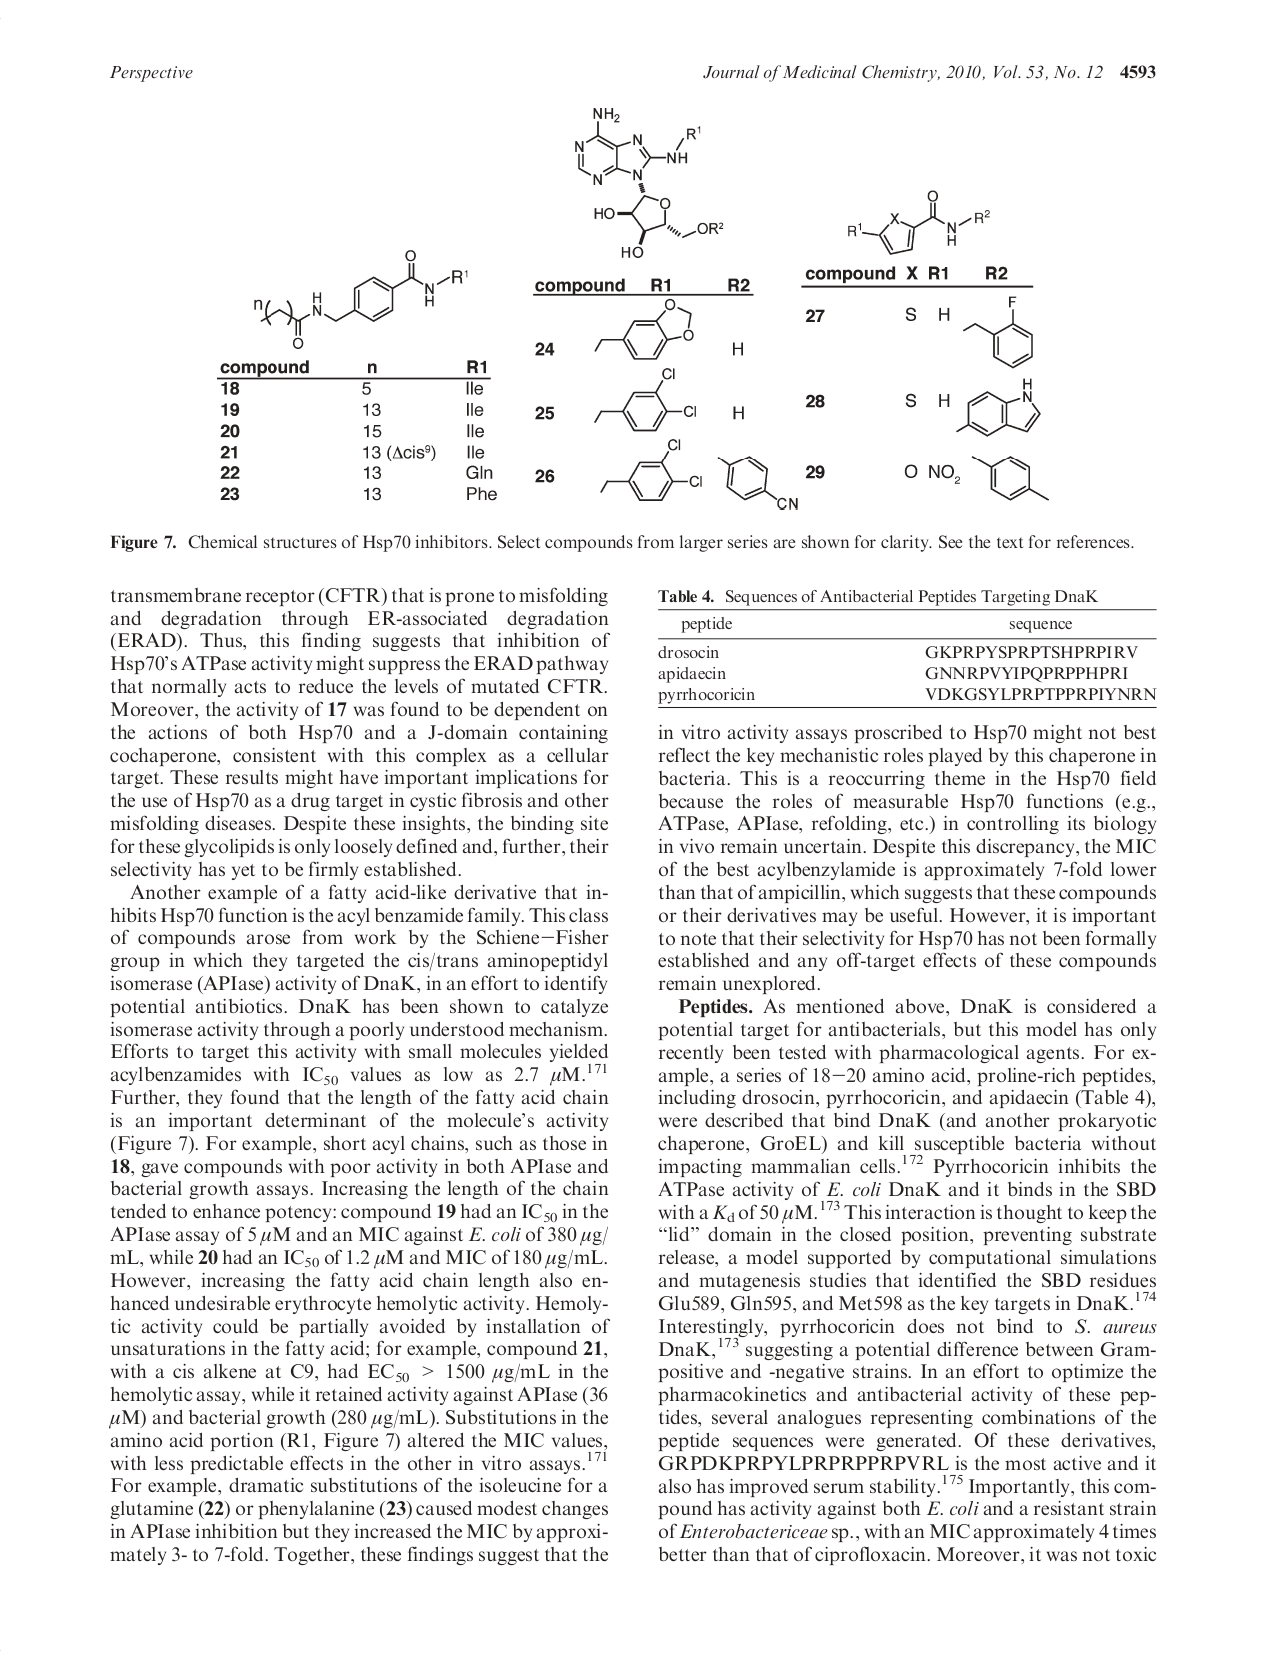exist_molecular: (564, 102, 729, 261), (247, 239, 473, 354), (843, 186, 999, 261), (586, 360, 713, 440), (593, 430, 703, 516), (711, 439, 807, 528), (592, 295, 699, 367), (955, 372, 1051, 447), (964, 291, 1051, 368), (967, 451, 1060, 519)
